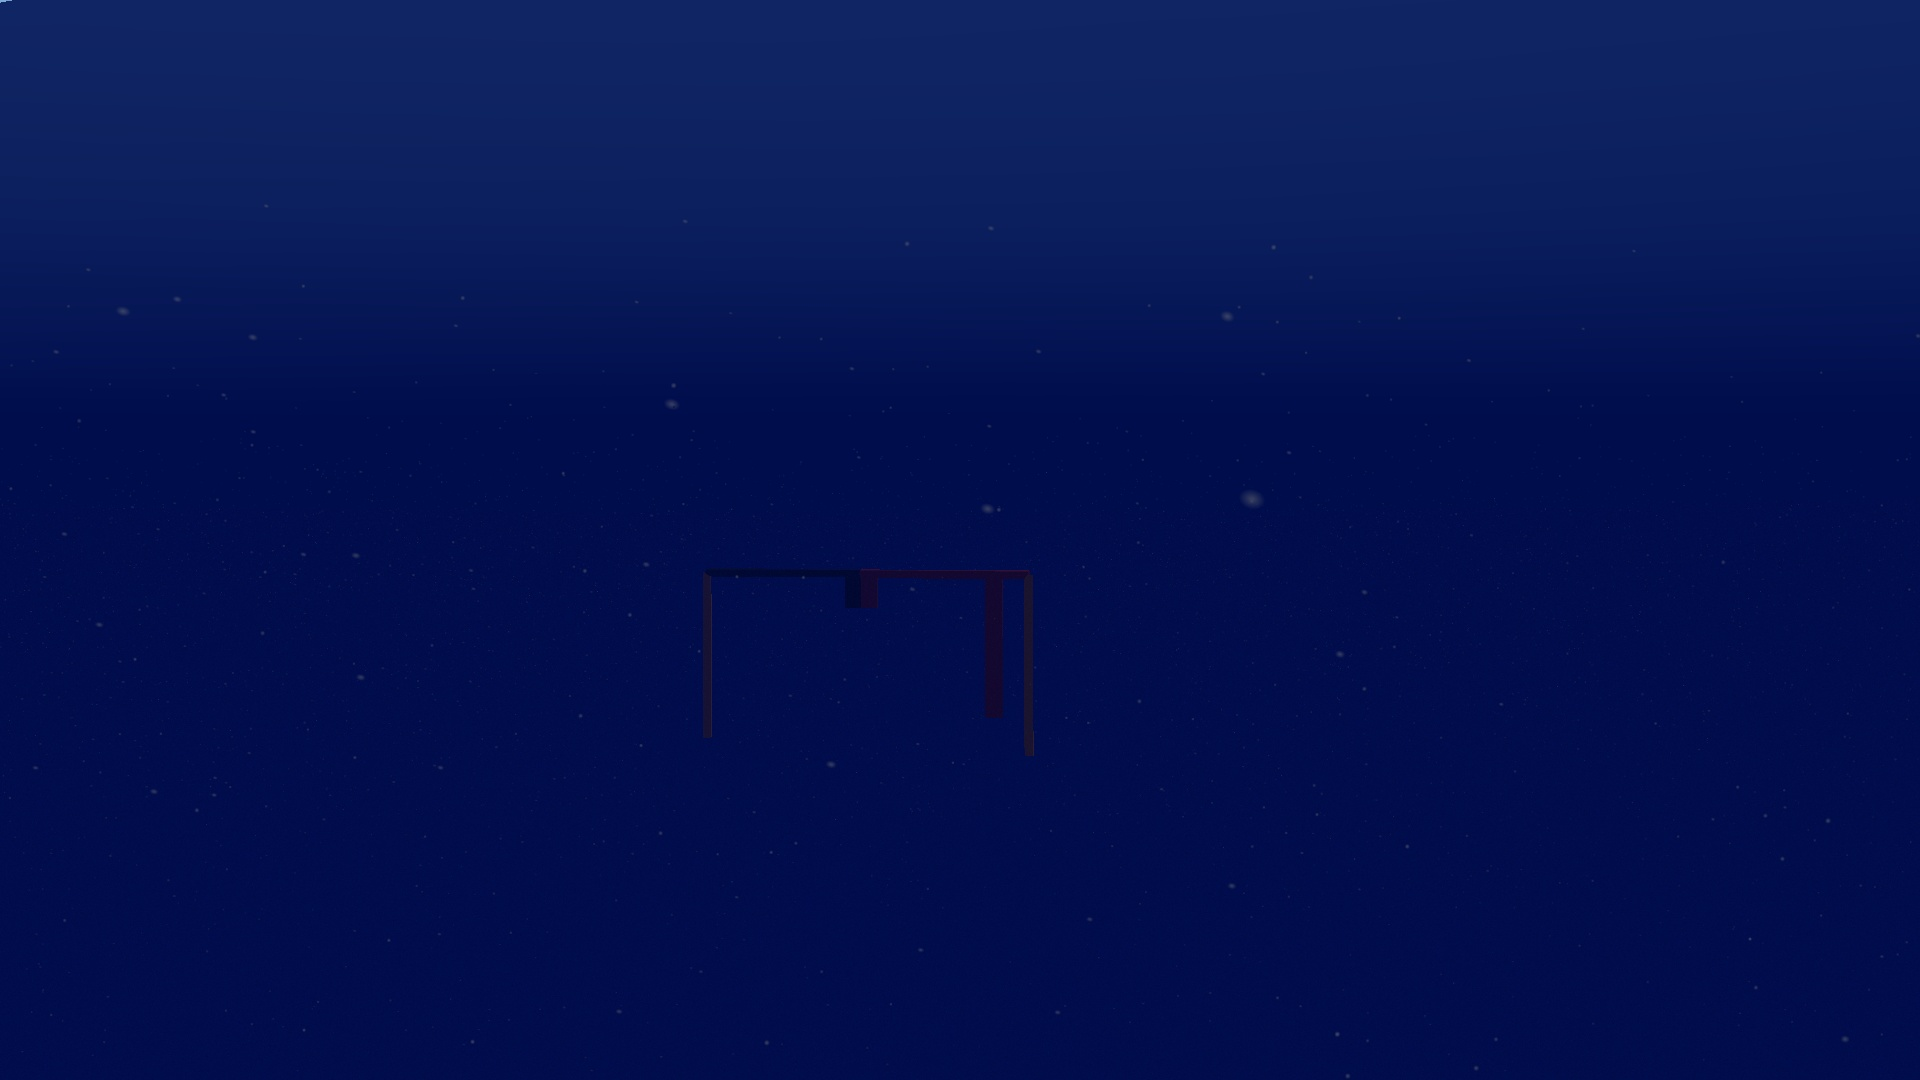Gate: (694, 560, 1047, 770)
